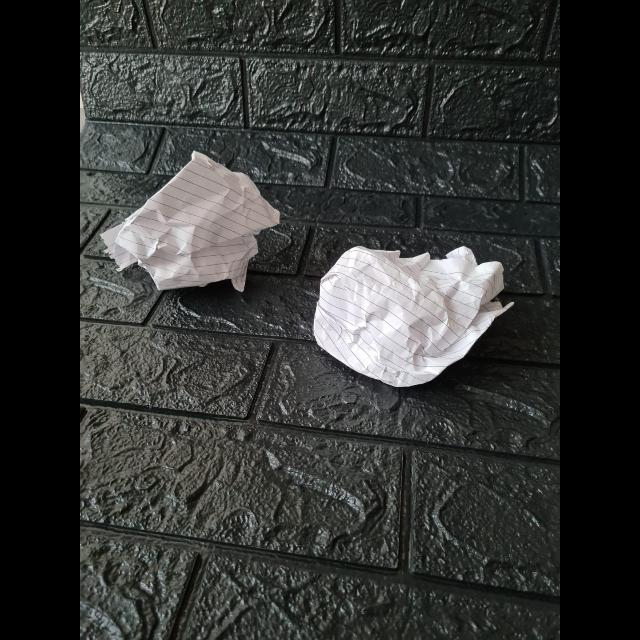scrap_paper: (310, 247, 516, 387), (102, 152, 282, 292)
